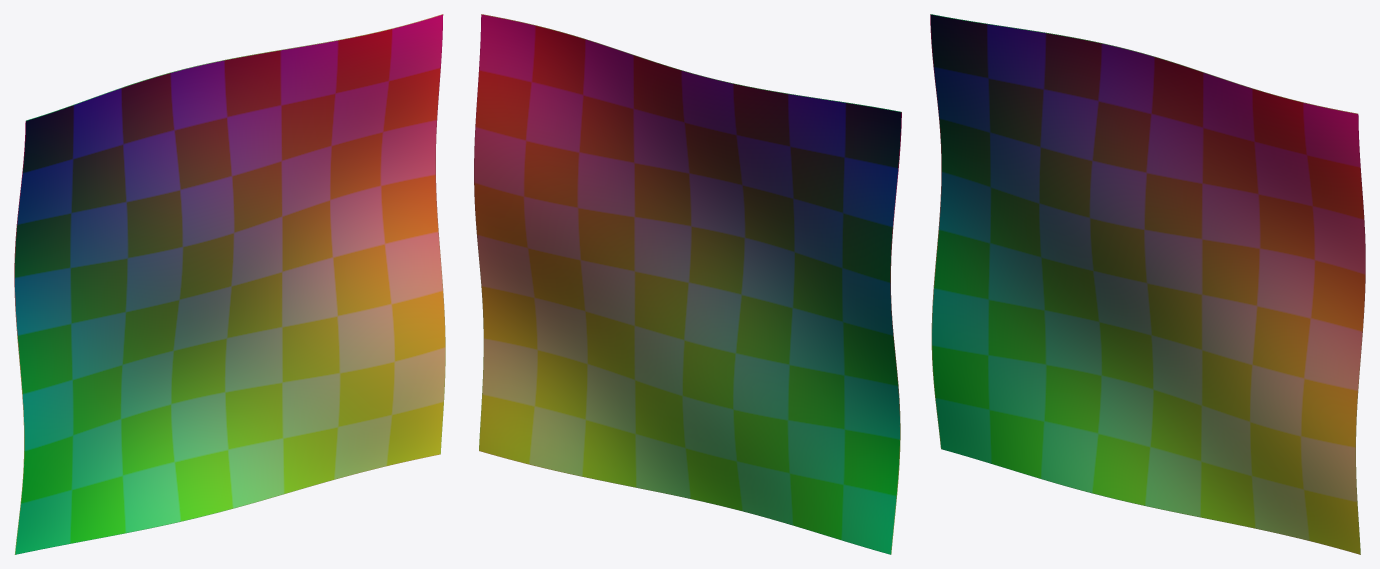
Rendered from Tile_+014_+029.obj.
The picture shows the model from 3 angles, left to right: view 1: azimuth 30°, elevation 25°; view 2: azimuth 150°, elevation 25°; view 3: azimuth 330°, elevation 25°; orthographic projection.
Size of the model in its own units: 100 by 100 by 5.87.
